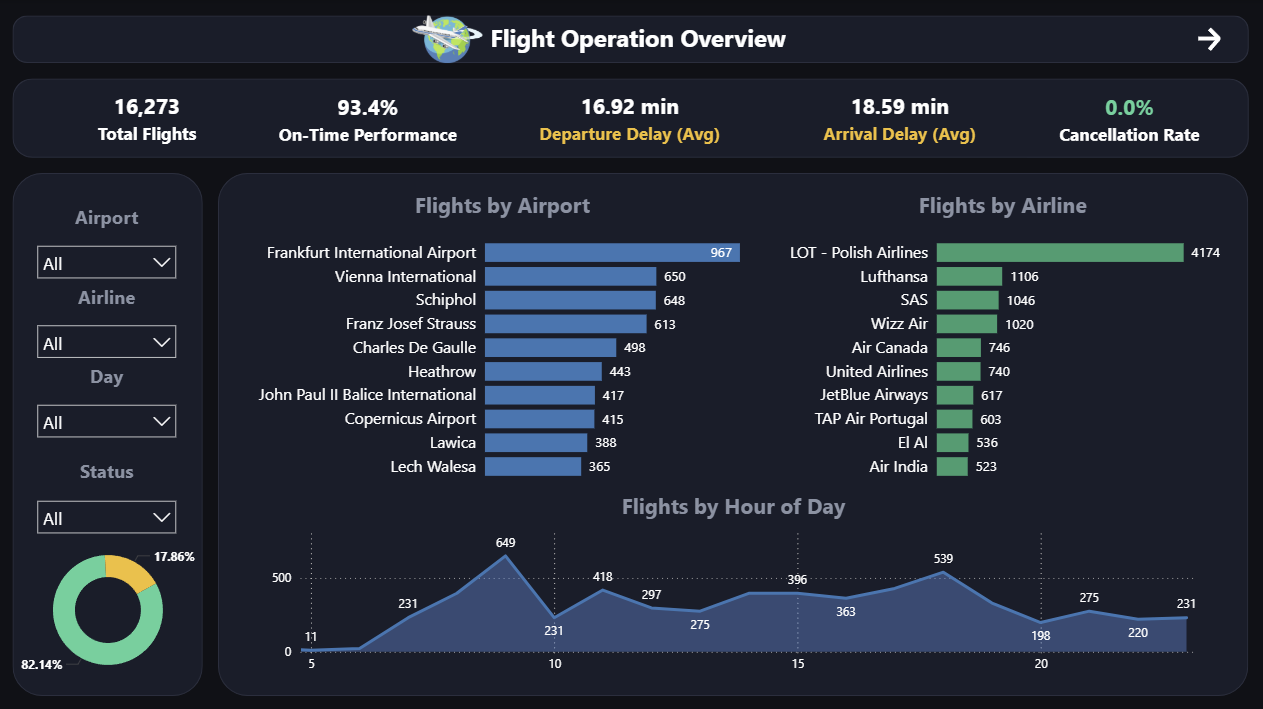

Layout of this report page (visuals, bound fields, positions):
{"tool":"powerbi","page":{"name":"Flight Overview","canvas":[1280,720],"ordinal":0},"visuals":[{"type":"shape","box":[16,80,1248,80],"z":0},{"type":"shape","box":[16,176,192,528],"z":1000},{"type":"shape","box":[224,176,1040,528],"z":2000},{"type":"cardVisual","fields":{"Data":["public kpi_avg_departure_delay.Avg Departure Delay"]},"box":[512,64,256,112],"z":3000},{"type":"cardVisual","fields":{"Data":["public kpi_avg_arrival_delay.Avg Arrival Delay"]},"box":[784,64,256,112],"z":4000},{"type":"cardVisual","fields":{"Data":["Sum(public kpi_cancellation_rate.cancellation_rate)"]},"box":[1040,80,208,80],"z":5000},{"type":"clusteredBarChart","title":"Flights by Airport","fields":{"Y":["CountNonNull(public fact_flight.flight_id)"],"Category":["public dim_airport.airport_name"]},"box":[240,192,544,304],"z":6000},{"type":"clusteredBarChart","title":"Flights by Airline","fields":{"Y":["CountNonNull(public fact_flight.flight_id)"],"Category":["public dim_airline.airline_name"]},"box":[784,192,464,304],"z":7000},{"type":"lineChart","title":"Flights by Hour of Day","fields":{"Y":["CountNonNull(public fact_flight.flight_id)"],"Category":["public dim_time.hour"]},"box":[272,496,944,192],"z":8000},{"type":"shape","title":"Airport","box":[32,208,160,32],"z":9000},{"type":"shape","title":"Airline","box":[32,288,160,32],"z":10000},{"type":"shape","title":"Day","box":[32,368,160,32],"z":11000},{"type":"slicer","fields":{"Values":["public dim_airport.airport_name"]},"box":[32,240,160,48],"z":12000},{"type":"shape","title":"Status","box":[32,464,160,32],"z":13000},{"type":"slicer","fields":{"Values":["public dim_airline.airline_name"]},"box":[32,320,160,48],"z":14000},{"type":"slicer","fields":{"Values":["public dim_time.date.Variation.Date Hierarchy.Day"]},"box":[32,400,160,48],"z":15000},{"type":"cardVisual","fields":{"Data":["public fact_flight.Total Flights"]},"box":[48,64,208,112],"z":16000},{"type":"cardVisual","fields":{"Data":["public kpi_on_time_performance.On-Time Performance %"]},"box":[256,80,240,80],"z":17000},{"type":"slicer","fields":{"Values":["public fact_flight.Flight Status"]},"box":[32,496,160,48],"z":18000},{"type":"donutChart","fields":{"Y":["CountNonNull(public fact_flight.flight_id)"],"Category":["public fact_flight.Flight Status"]},"box":[16,528,192,176],"z":19000},{"type":"shape","box":[16,16,1248,48],"z":20000},{"type":"textbox","box":[336,16,624,48],"z":21000},{"type":"image","box":[400,16,112,48],"z":22000},{"type":"actionButton","box":[1184,16,80,48],"z":23000}]}

Visuals, with their boxes in screenshot pixels (x1, y1, x2, y2), scaled from the page's 1280x720 canvas onto the 1263x709 screenshot:
shape: crop(16, 79, 1247, 158)
shape: crop(16, 173, 205, 693)
shape: crop(221, 173, 1247, 693)
cardVisual - public kpi_avg_departure_delay.Avg Departure Delay: crop(505, 63, 758, 173)
cardVisual - public kpi_avg_arrival_delay.Avg Arrival Delay: crop(774, 63, 1026, 173)
cardVisual - Sum(public kpi_cancellation_rate.cancellation_rate): crop(1026, 79, 1231, 158)
"Flights by Airport" clusteredBarChart: crop(237, 189, 774, 488)
"Flights by Airline" clusteredBarChart: crop(774, 189, 1231, 488)
"Flights by Hour of Day" lineChart: crop(268, 488, 1200, 677)
"Airport" shape: crop(32, 205, 189, 236)
"Airline" shape: crop(32, 284, 189, 315)
"Day" shape: crop(32, 362, 189, 394)
slicer - public dim_airport.airport_name: crop(32, 236, 189, 284)
"Status" shape: crop(32, 457, 189, 488)
slicer - public dim_airline.airline_name: crop(32, 315, 189, 362)
slicer - public dim_time.date.Variation.Date Hierarchy.Day: crop(32, 394, 189, 441)
cardVisual - public fact_flight.Total Flights: crop(47, 63, 253, 173)
cardVisual - public kpi_on_time_performance.On-Time Performance %: crop(253, 79, 489, 158)
slicer - public fact_flight.Flight Status: crop(32, 488, 189, 536)
donutChart - CountNonNull(public fact_flight.flight_id) x public fact_flight.Flight Status: crop(16, 520, 205, 693)
shape: crop(16, 16, 1247, 63)
textbox: crop(332, 16, 947, 63)
image: crop(395, 16, 505, 63)
actionButton: crop(1168, 16, 1247, 63)
